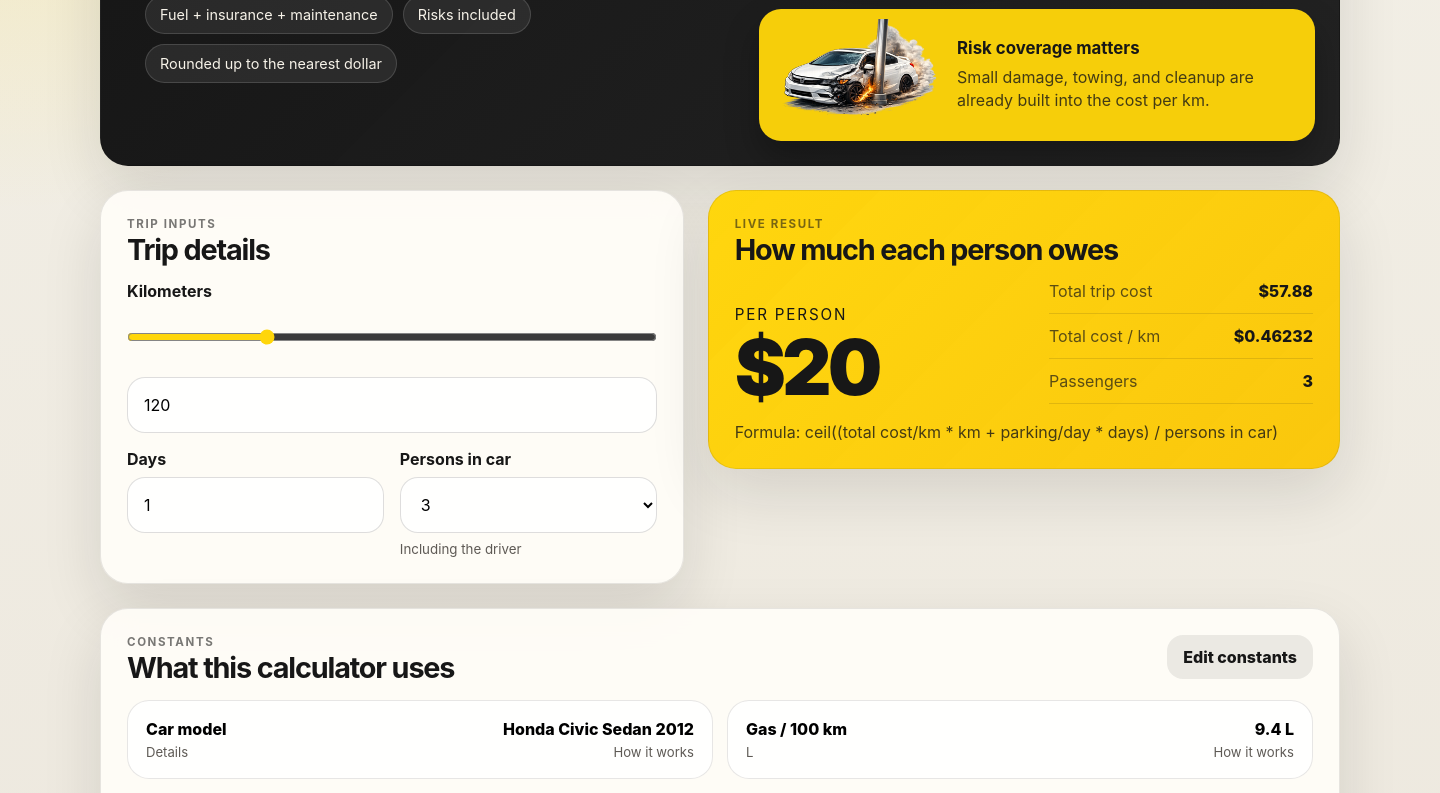
Test: App › updates the result when trip inputs change
(page scrolled)
Replace the text in the number field named "Kilometers" with "3333". click: (392, 405)
box: x1=127 y1=377 x2=657 y2=433
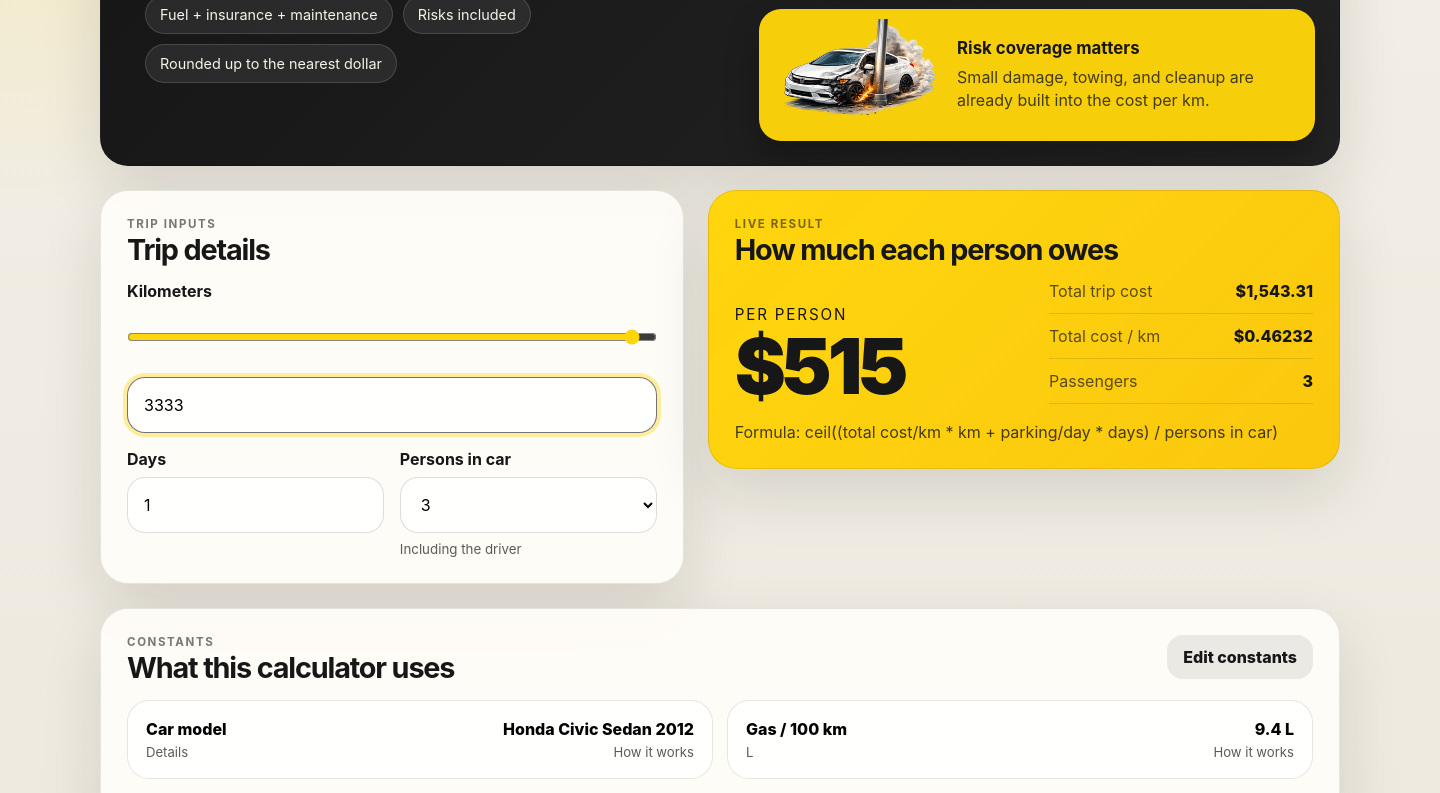
Replace the text in the number field labelled "Days" with "222". click: (255, 505)
box: x1=127 y1=477 x2=384 y2=533
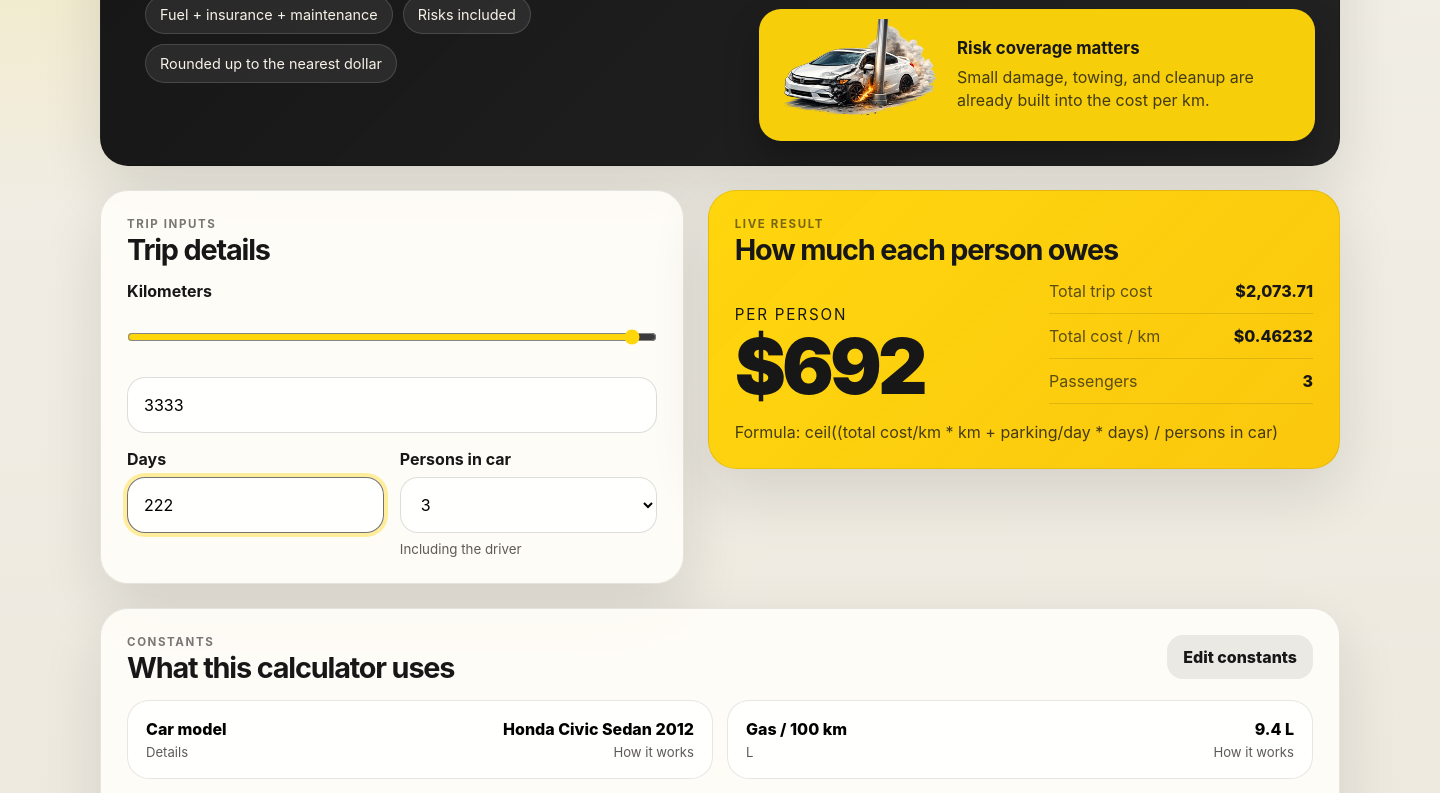
Select "5" in the dropdown labelled "Persons in car". click: (528, 505)
box: x1=400 y1=477 x2=657 y2=533
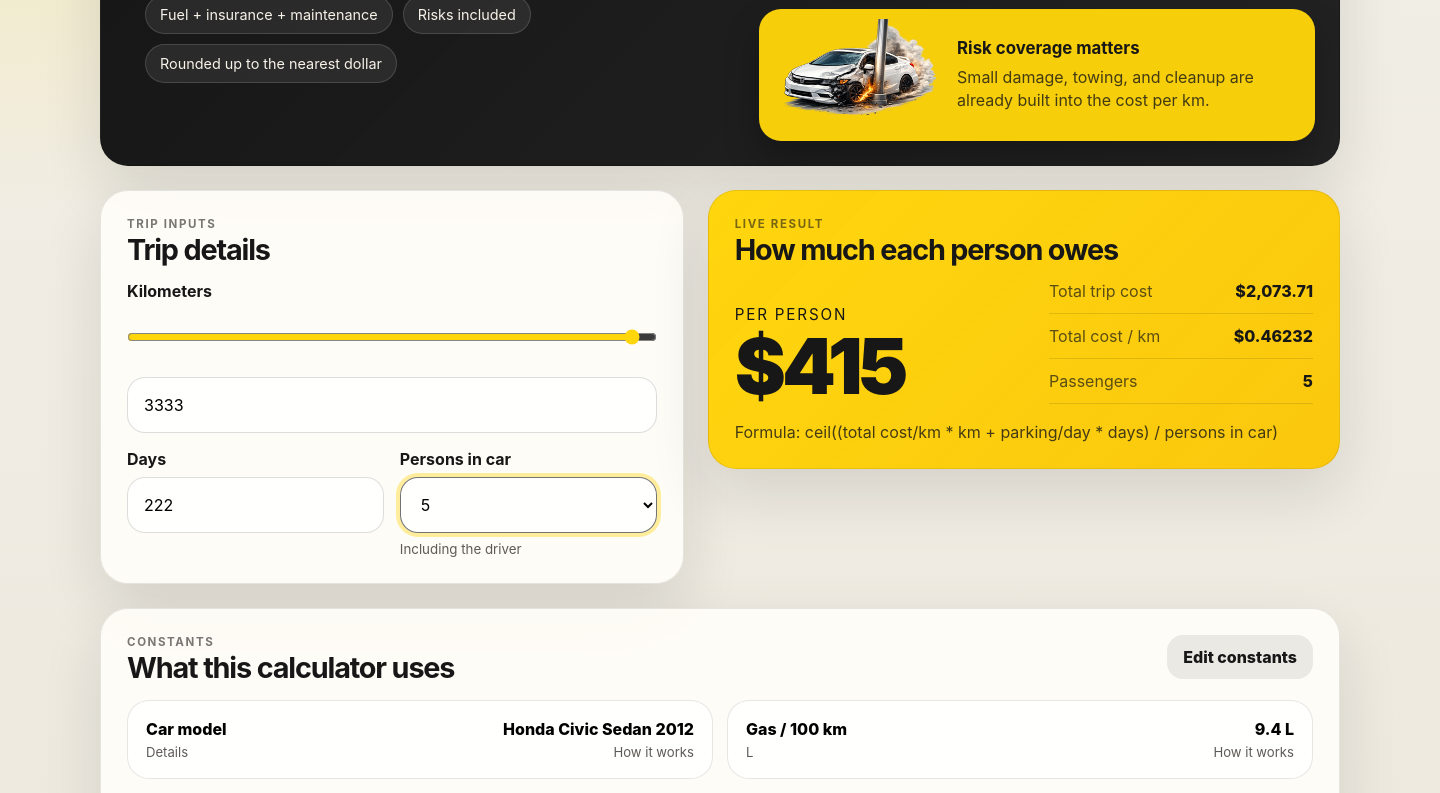
Expected: the text "$415" is shown, x1=735 y1=320 x2=905 y2=413
